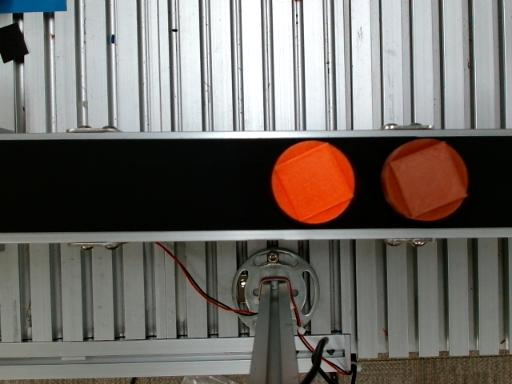Square: (275, 143, 354, 220), (391, 143, 467, 218)
